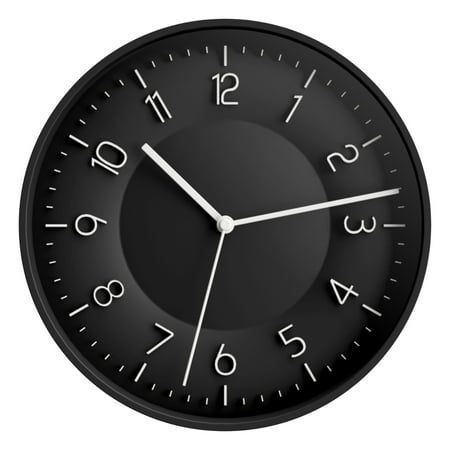clock: (13, 3, 444, 449)
